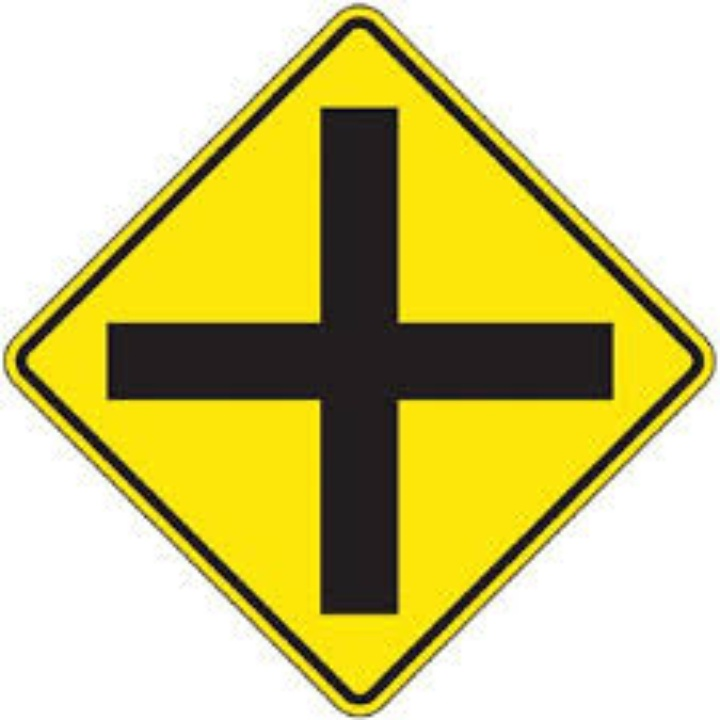inter: (98, 96, 626, 626)
